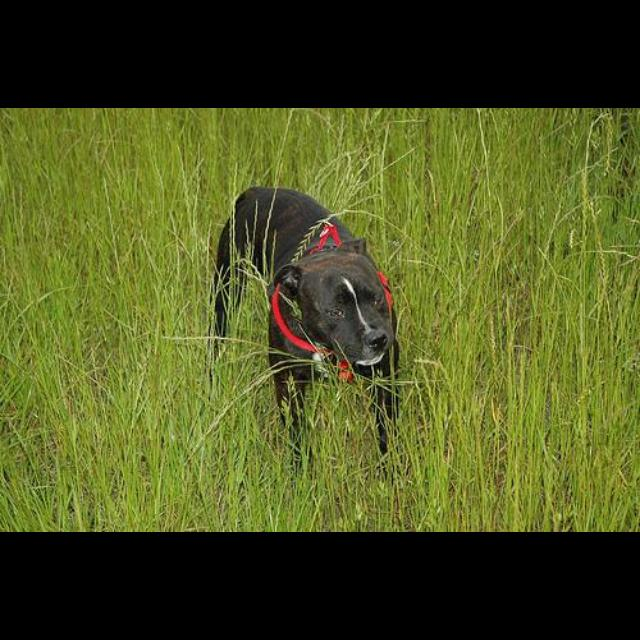staffford: (208, 186, 400, 462)
